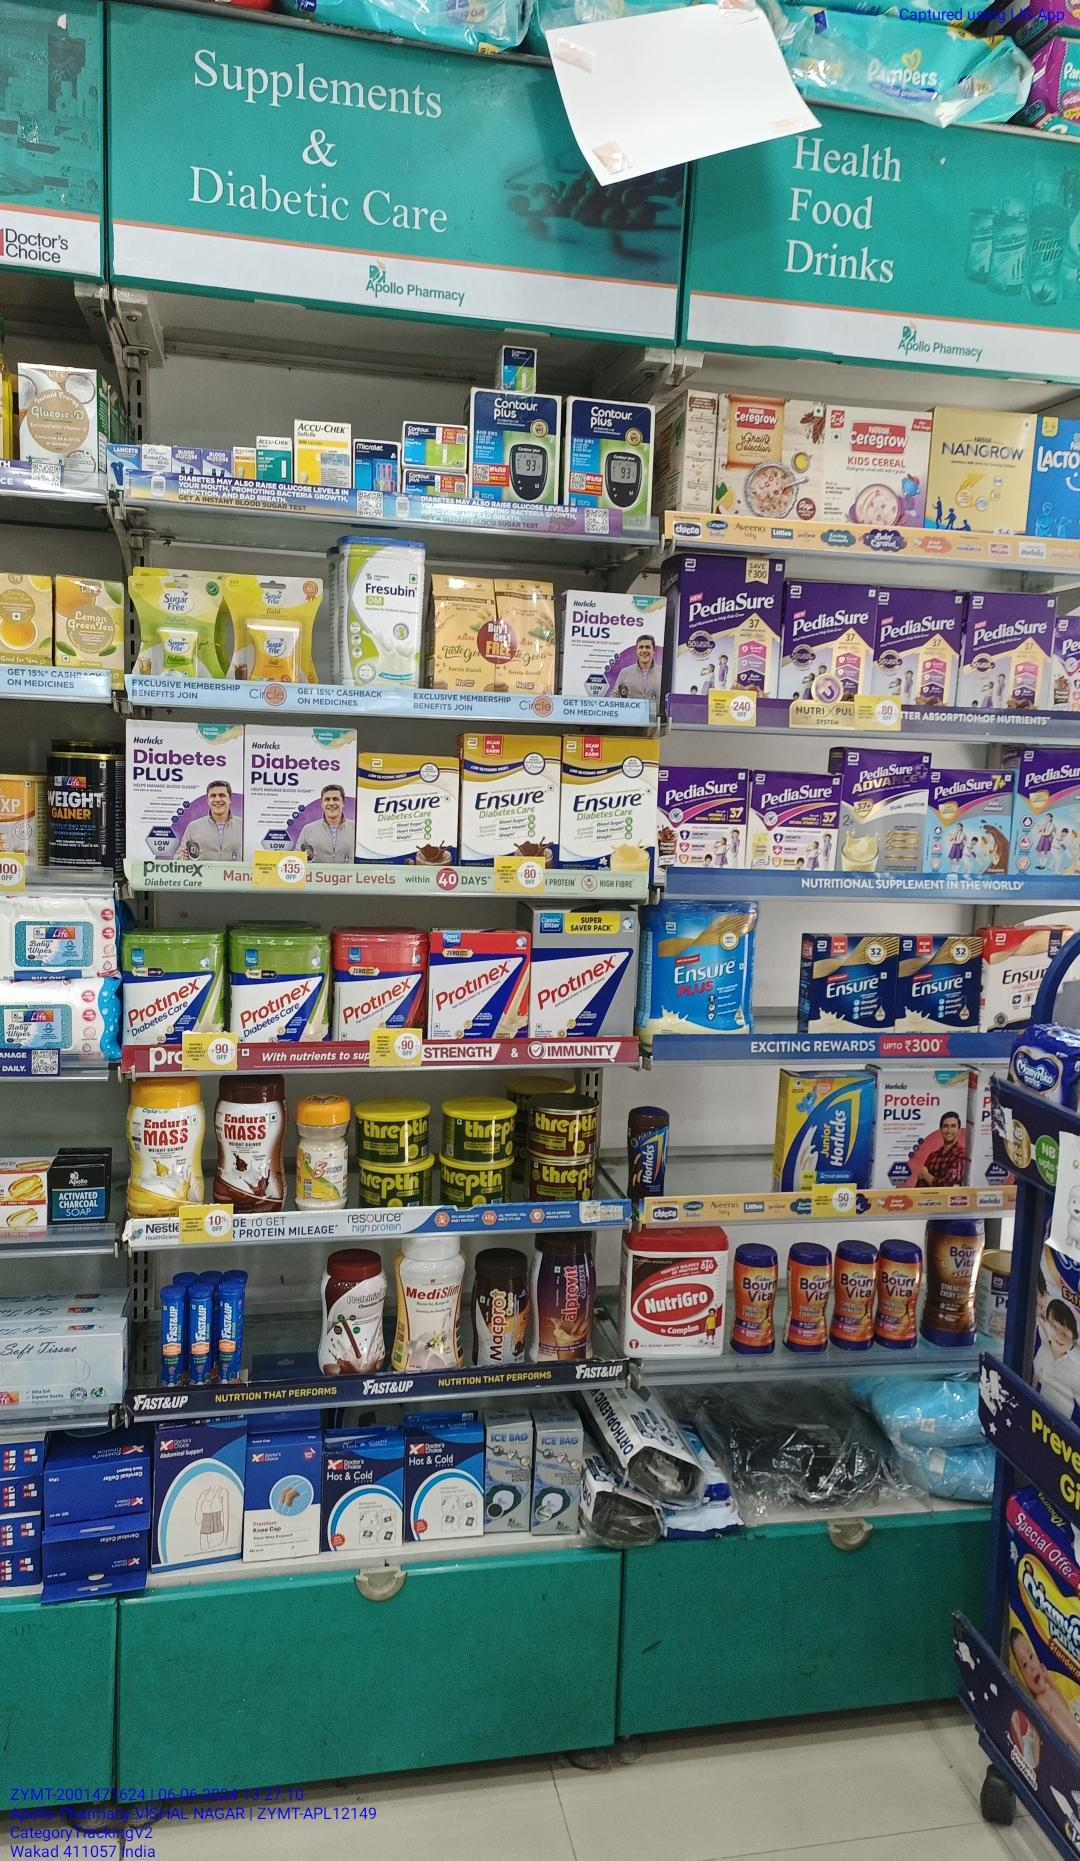BOURN_VITA_200_G_JAR: (734, 1244, 779, 1357), (789, 1252, 833, 1358), (840, 1247, 879, 1355), (881, 1243, 918, 1353)
BOURN_VITA_FIVE_STAR_MAGIC_500_G_JAR: (926, 1216, 987, 1351)
ENSURE_VANILLA_400_G_PACK: (900, 936, 982, 1036), (813, 936, 896, 1033)
PEDIASURE_CHOCOLATE_500_G_PACK: (967, 591, 1056, 711), (786, 582, 870, 700), (874, 589, 957, 707)
PROTINEX_CHOCOLATE_400_G_JAR: (334, 930, 423, 1046)
